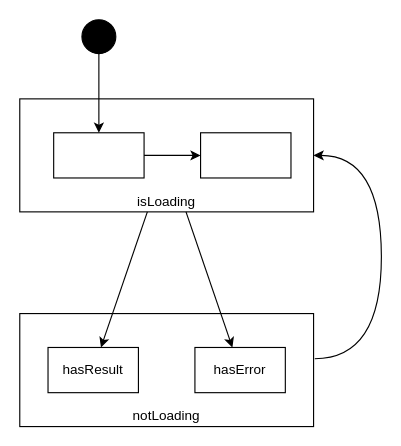
This 401x446 diagram has some shape labels left out. The shapes that lost their labels are listed below. From the top down, each one's centre as x and y in pixels, then its label:
At point 98,155: "normal".
At point 245,155: "slow".
